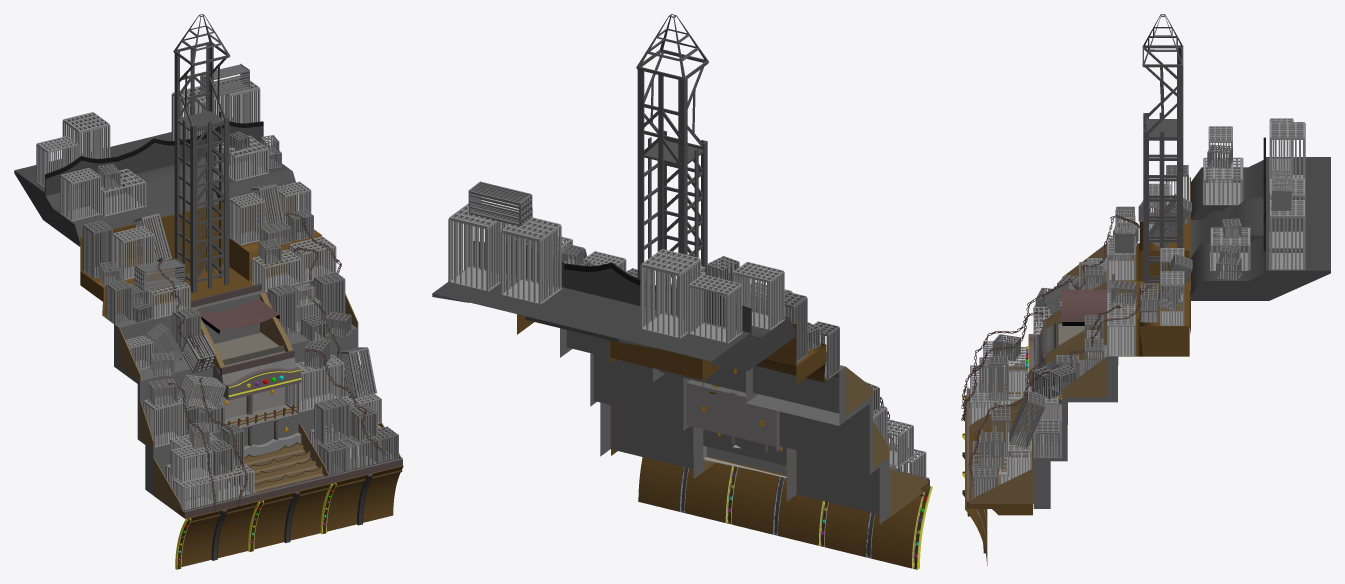
Rendered from CombinedMiddleArena.fbx.
The picture shows the model from 3 angles, left to right: view 1: azimuth 30°, elevation 25°; view 2: azimuth 150°, elevation 25°; view 3: azimuth 270°, elevation 25°; orthographic projection. The views are drawn at different scales.
Parts seen in each view (by area): view 1: PIECE_Middle; view 2: PIECE_Middle; view 3: PIECE_Middle.
Boxes of the visible parts, x1,y1,x2,y2 form: PIECE_Middle: (14, 14, 403, 569); PIECE_Middle: (432, 14, 932, 569); PIECE_Middle: (961, 14, 1330, 565).
Bounding box in the file's own units: 48 × 98.15 × 66.02.
